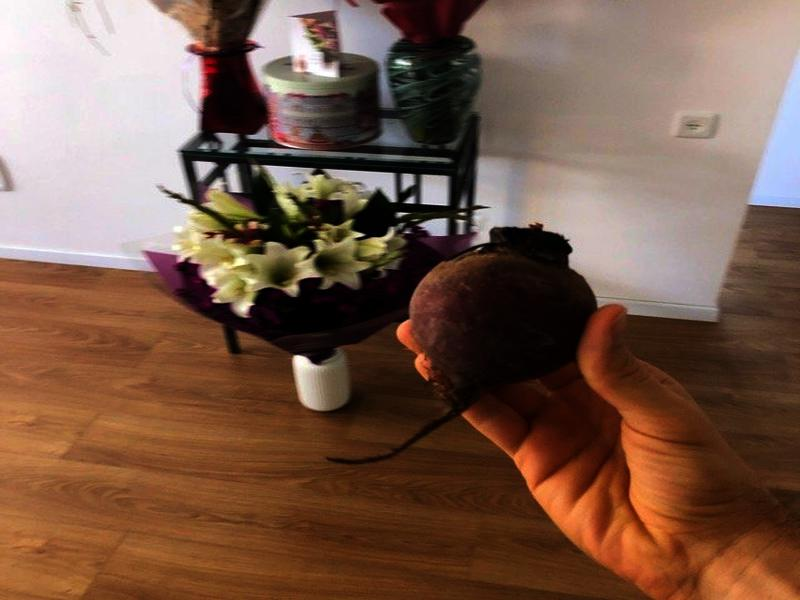Beet: (320, 225, 595, 463)
